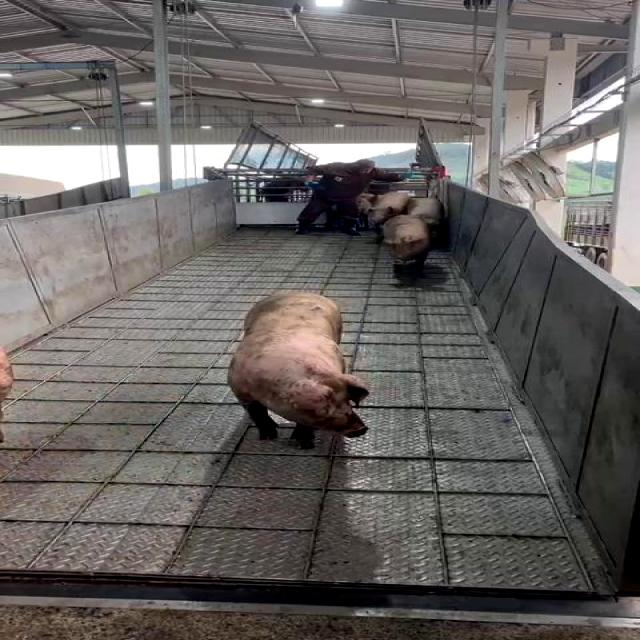pig: (229, 292, 368, 446), (384, 216, 431, 275), (1, 347, 13, 400)
